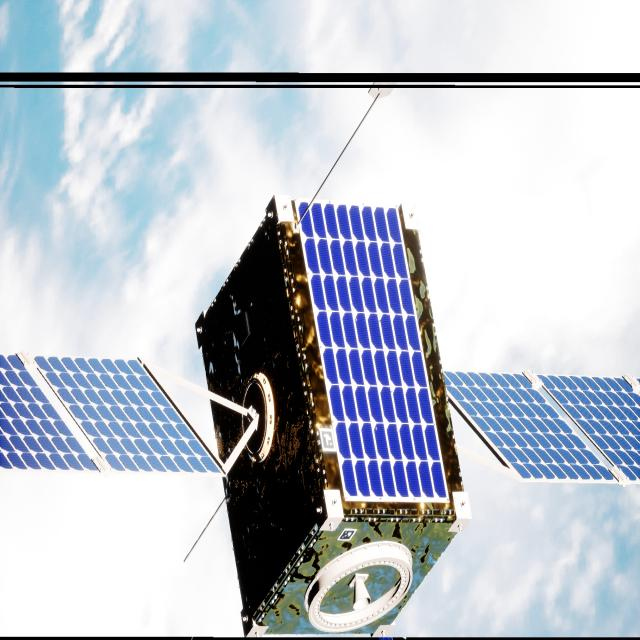satellite: (0, 198, 640, 634)
